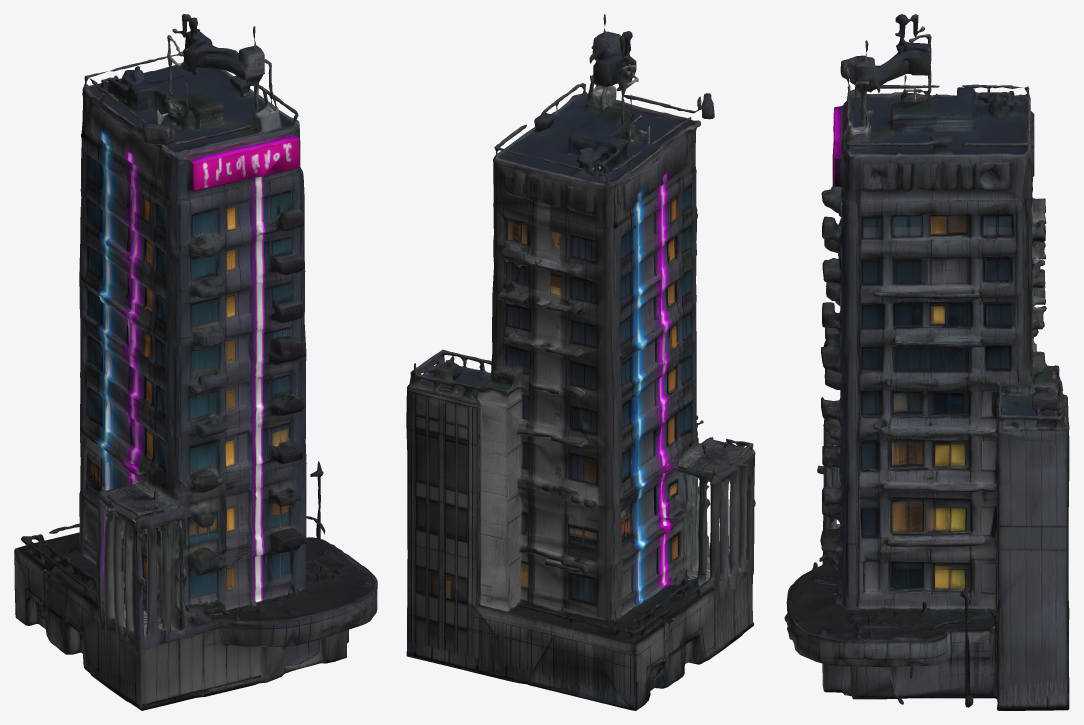
File: ximen_neon_tower_01.glb
The picture shows the model from 3 angles, left to right: view 1: azimuth 30°, elevation 25°; view 2: azimuth 150°, elevation 25°; view 3: azimuth 270°, elevation 25°; orthographic projection. The views are drawn at different scales.
Bounding box in the file's own units: 0.8752 × 2 × 0.8258.
1 material, 1 textured.
